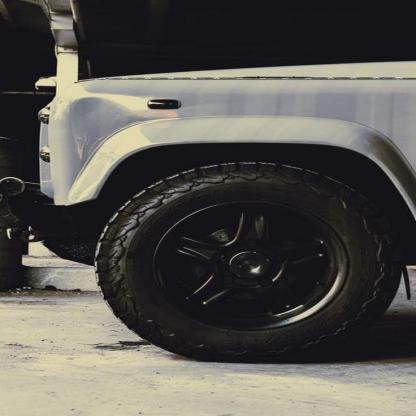Tire: (90, 158, 404, 364)
